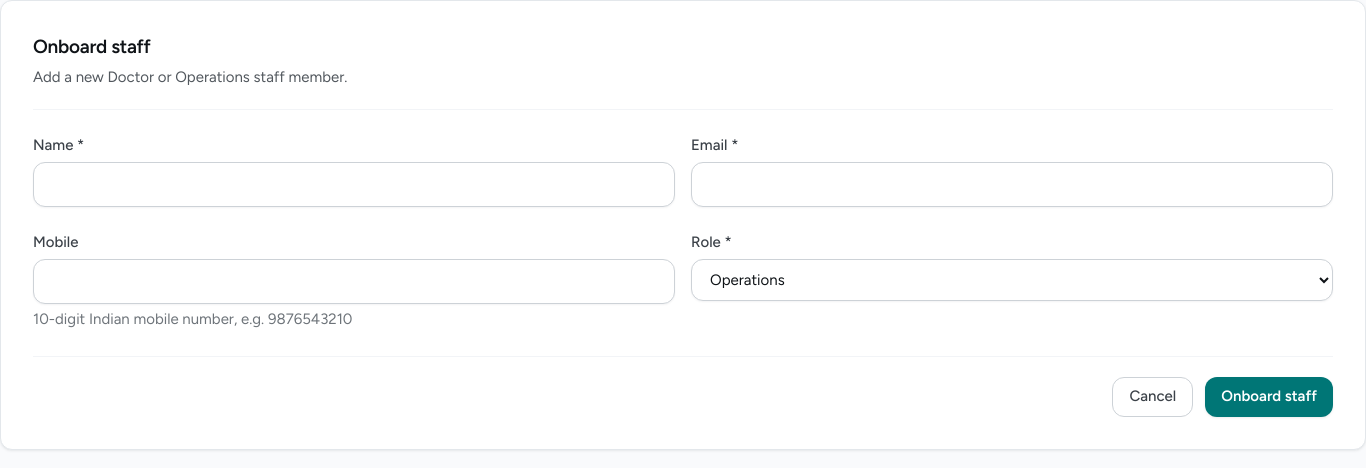
OnboardStaffForm › onboards an Operations hire and shows the one-time credentials
The width and height of the screenshot is (1366, 468).
Type "Jane Ops" into the field labelled "Name *".
click(354, 184); type("Jane Ops")  # box [33,162,675,207]
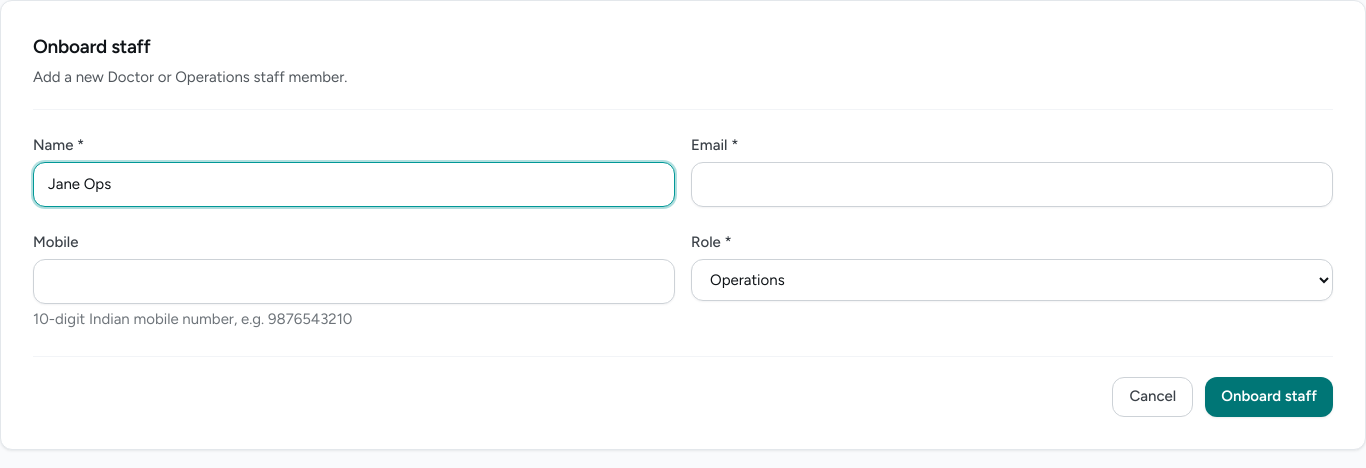
Type "ops@clinic.example" into the field labelled "Email *".
click(1012, 184); type("ops@clinic.example")  # box [691,162,1333,207]
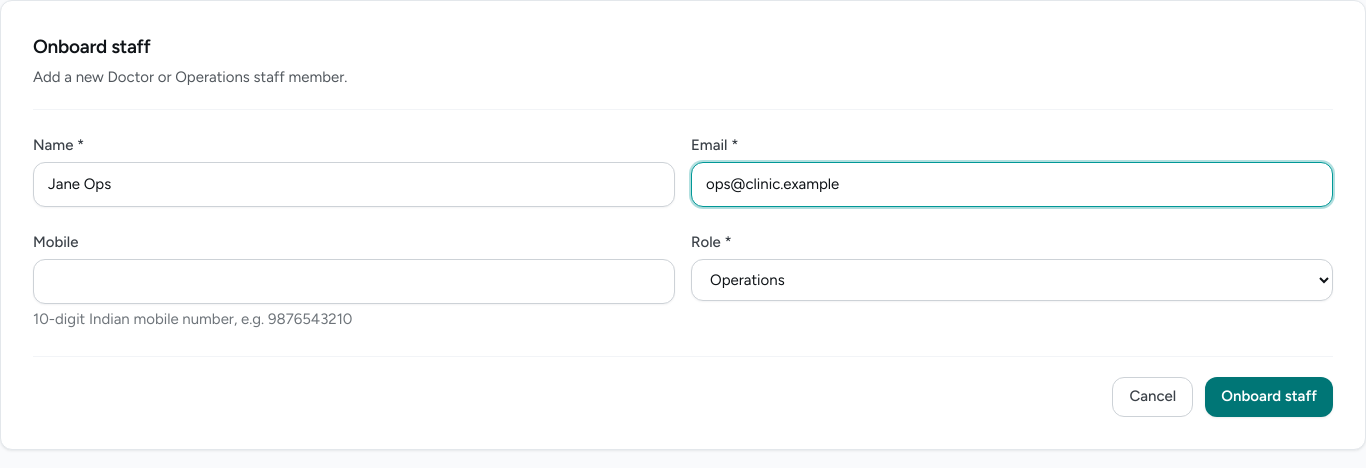
Click the button "Onboard staff".
click(1269, 397)  # box [1205,377,1333,417]
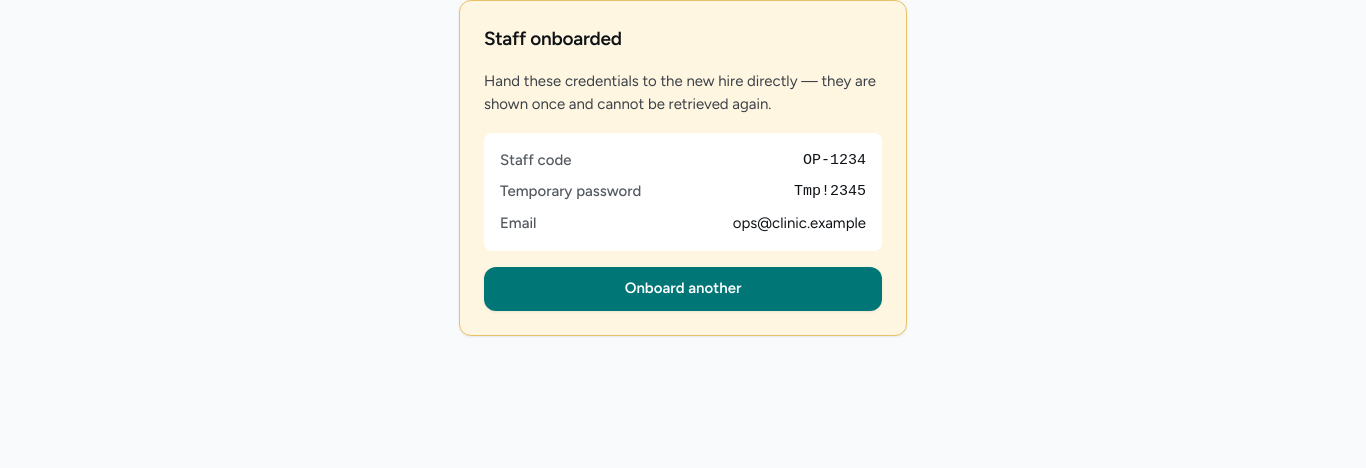
Now the text "OP-1234" is shown, box [803,149,866,172]
Now the text "Tmp!2345" is shown, box [794,180,866,204]
